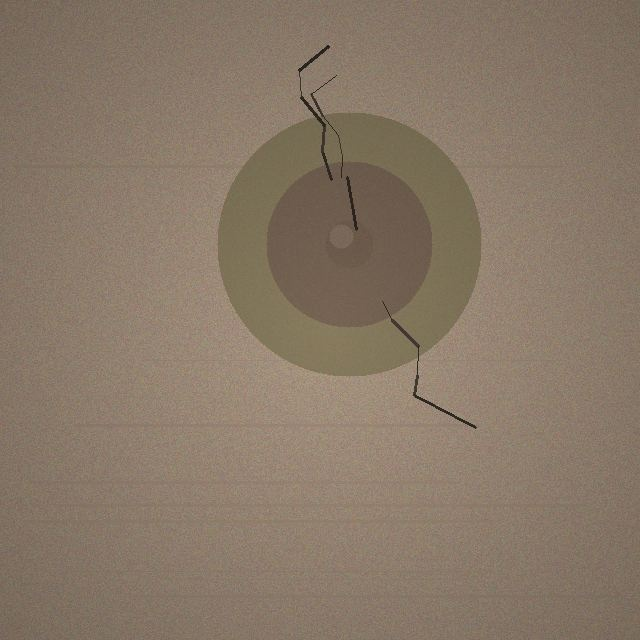crack: (217, 112, 481, 376)
